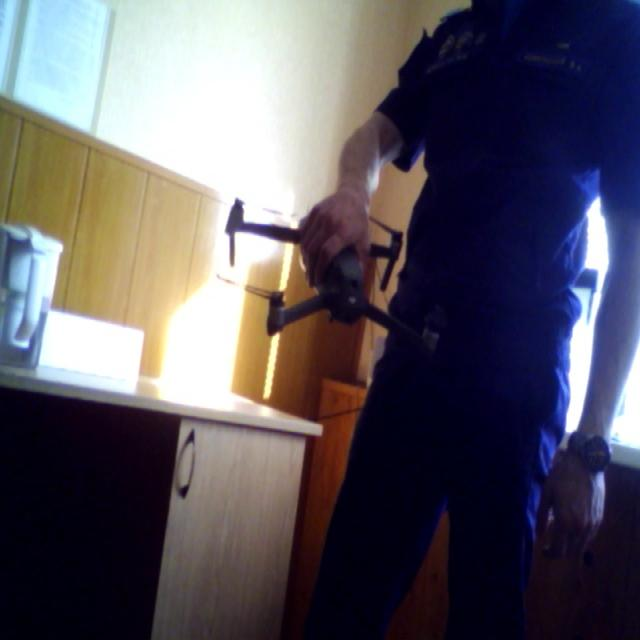drone: (202, 172, 463, 371)
